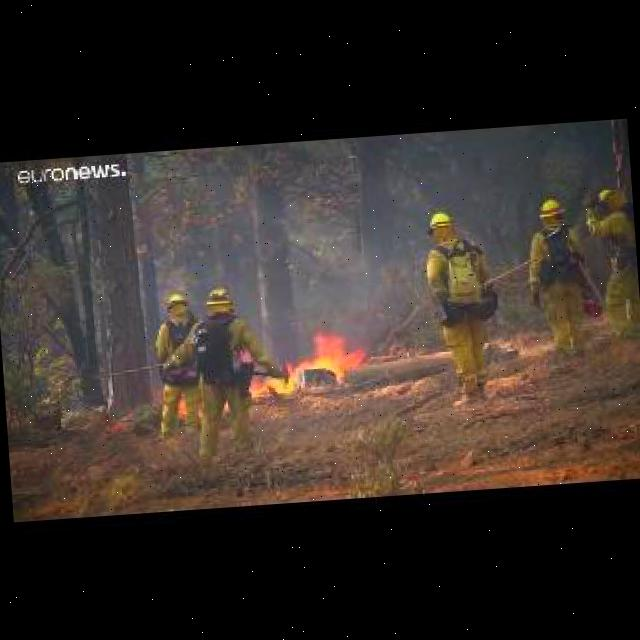fire: (251, 328, 371, 401), (179, 398, 186, 414)
